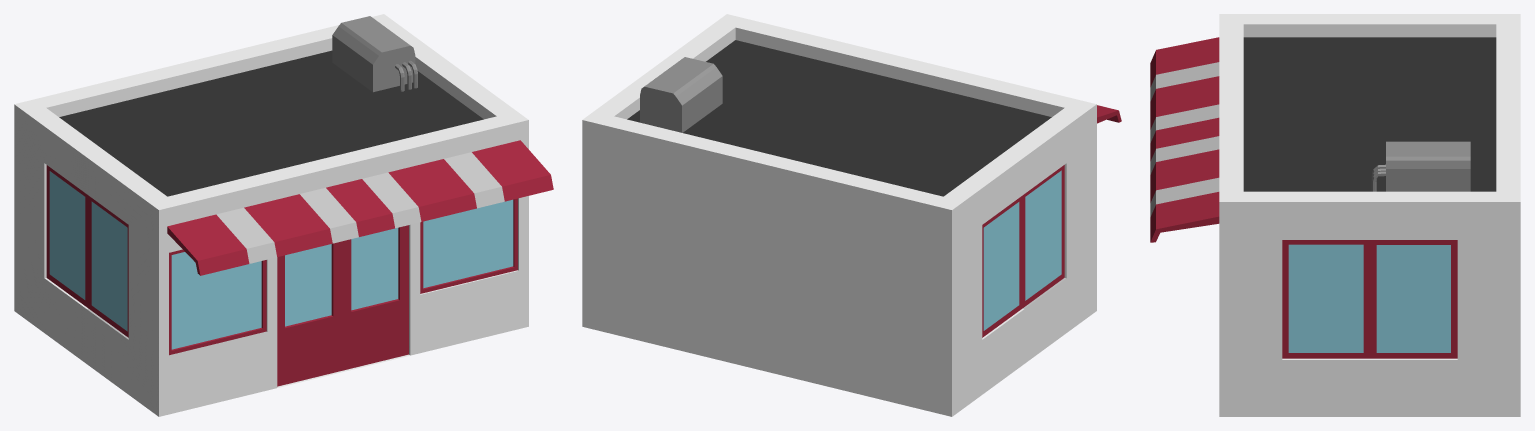
Rendered from Pizza Shop.FBX.
The picture shows the model from 3 angles, left to right: view 1: azimuth 30°, elevation 25°; view 2: azimuth 150°, elevation 25°; view 3: azimuth 270°, elevation 25°; orthographic projection. The views are drawn at different scales.
Parts seen in each view (by area): view 1: Cube; view 2: Cube; view 3: Cube.
Part boxes in pixels (bbox=[...]): Cube: bbox=[14, 14, 553, 416]; Cube: bbox=[582, 14, 1121, 416]; Cube: bbox=[1150, 14, 1520, 416].
Bounding box in the file's own units: 184 × 110 × 154.
